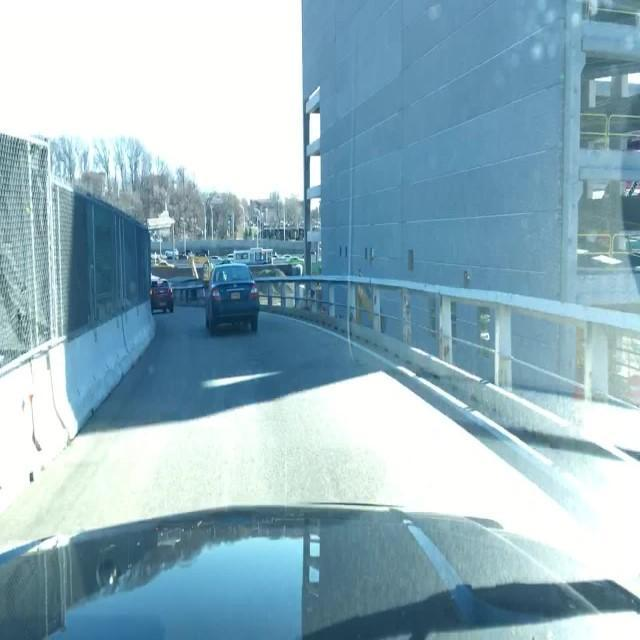normal: (81, 225, 286, 343)
